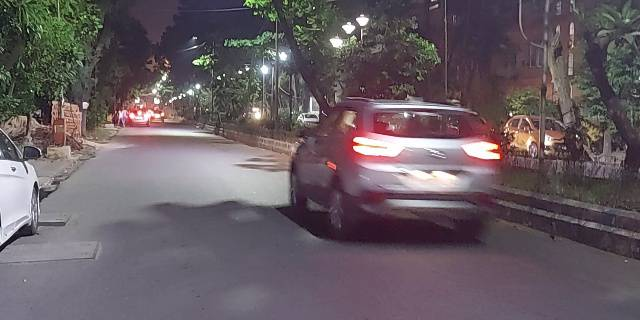Car: (289, 98, 498, 241)
